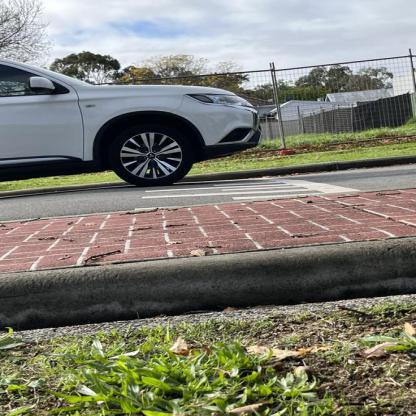Tire: (110, 124, 193, 187)
